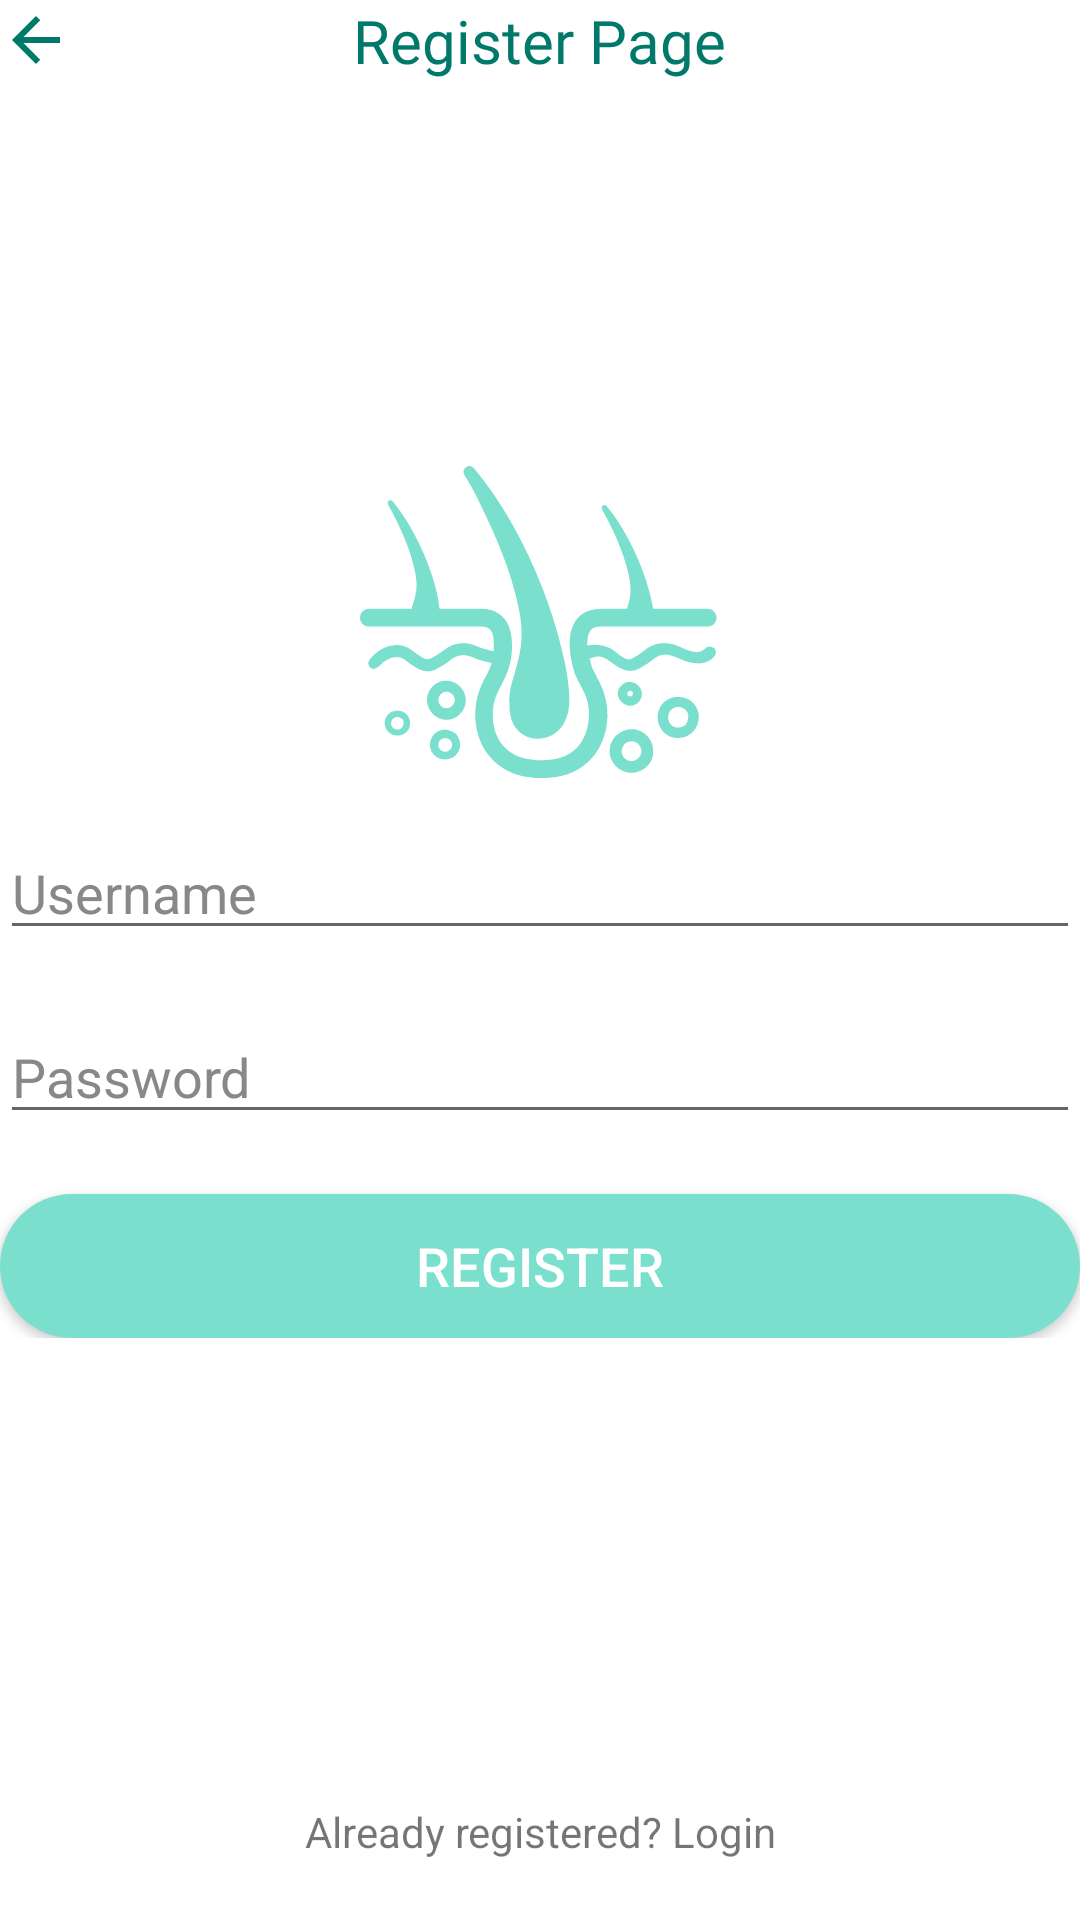

Icon bounding boxes for this 1080*1920 phone screenshot, format box(x1, y1, x2, y2):
back: box(12, 16, 60, 64)
